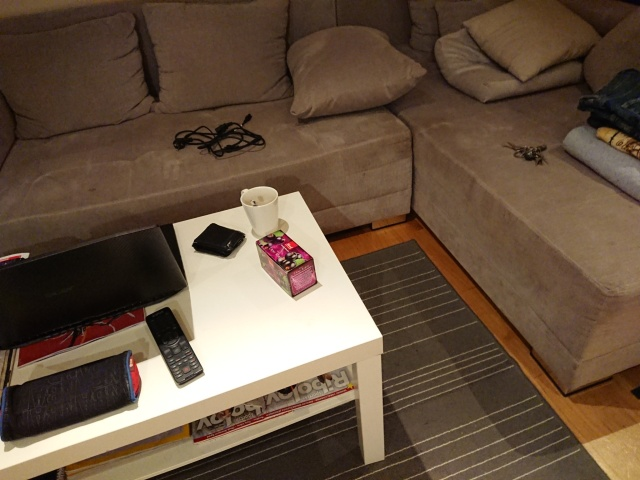Franck Black Currant Tea 60g: (254, 228, 319, 299)
